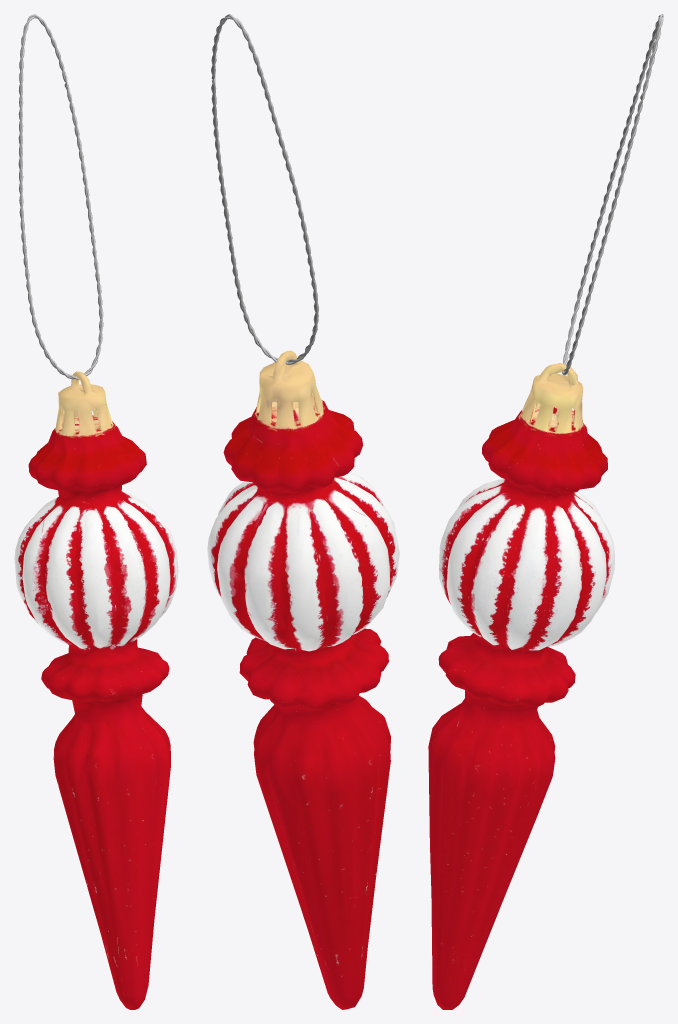
The model's file is Glittering_Red.glb.
3 renders of one model, left to right at view 1: azimuth 30°, elevation 25°; view 2: azimuth 150°, elevation 25°; view 3: azimuth 270°, elevation 25°, orthographic. The views are drawn at different scales.
Visible parts, largest first — view 1: Mesh1.0, GN Instance; view 2: Mesh1.0, GN Instance; view 3: Mesh1.0, GN Instance.
Boxes of the visible parts, x1,y1,x2,y2 form: Mesh1.0: [14, 371, 178, 1009]; GN Instance: [18, 14, 103, 379]; Mesh1.0: [207, 350, 399, 1009]; GN Instance: [211, 14, 318, 364]; Mesh1.0: [428, 363, 614, 1009]; GN Instance: [562, 14, 663, 375].
Bounding box in the file's own units: 0.0415 × 0.2588 × 0.0555.
Materials: 2 (1 with a texture image).
